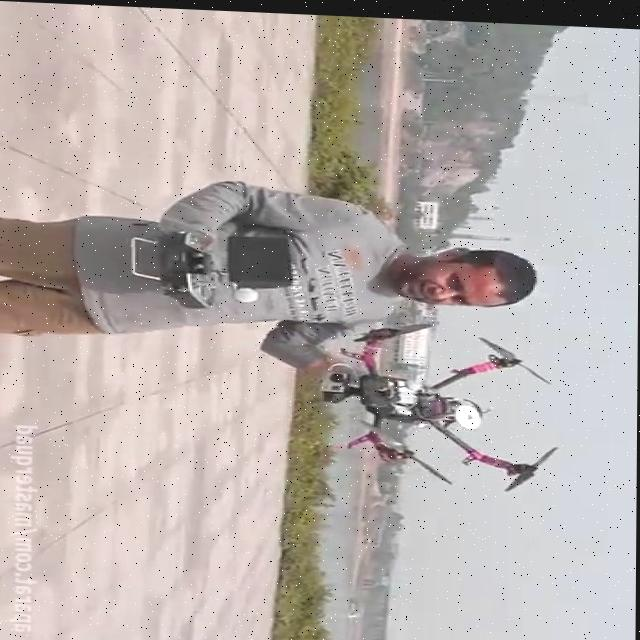drone: (320, 313, 568, 492)
